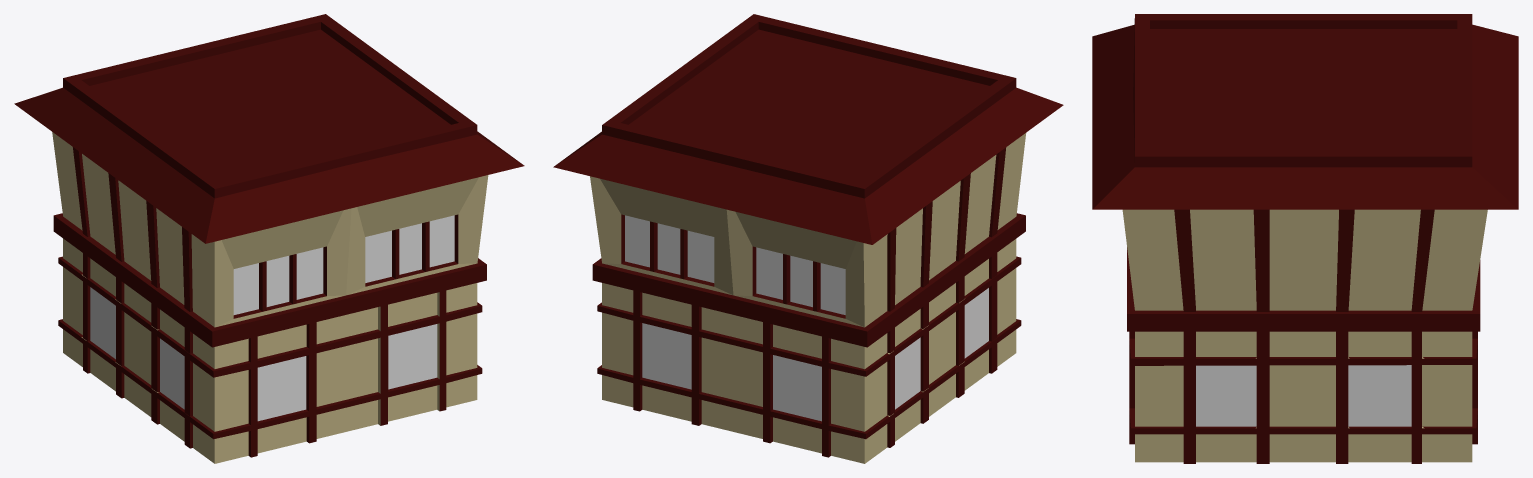
File: japan_1X1build.fbx
3 renders of one model, left to right at view 1: azimuth 30°, elevation 25°; view 2: azimuth 150°, elevation 25°; view 3: azimuth 270°, elevation 25°, orthographic. The views are drawn at different scales.
Visible parts, largest first — view 1: Cube.001; view 2: Cube.001; view 3: Cube.001.
Boxes of the visible parts, left/top/right/bottom form: Cube.001: left=14, top=14, right=524, bottom=463; Cube.001: left=553, top=14, right=1063, bottom=463; Cube.001: left=1092, top=14, right=1518, bottom=463.
Bounding box in the file's own units: 122 × 100 × 126.
